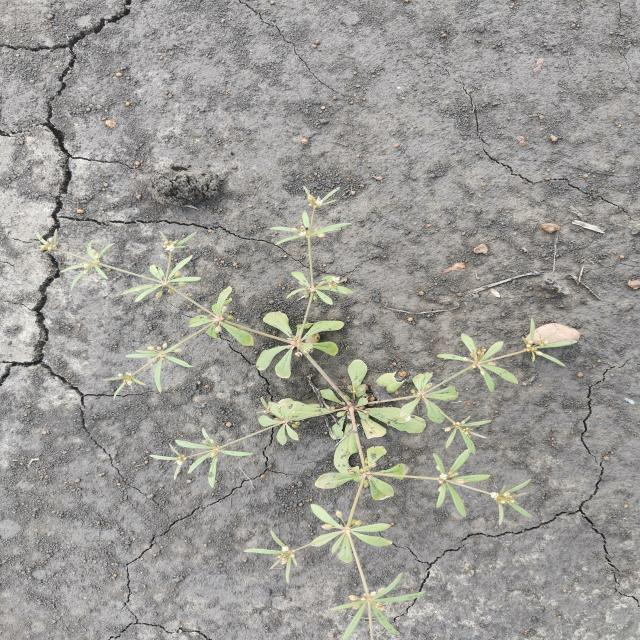Carpetweed: (20, 182, 580, 638)
